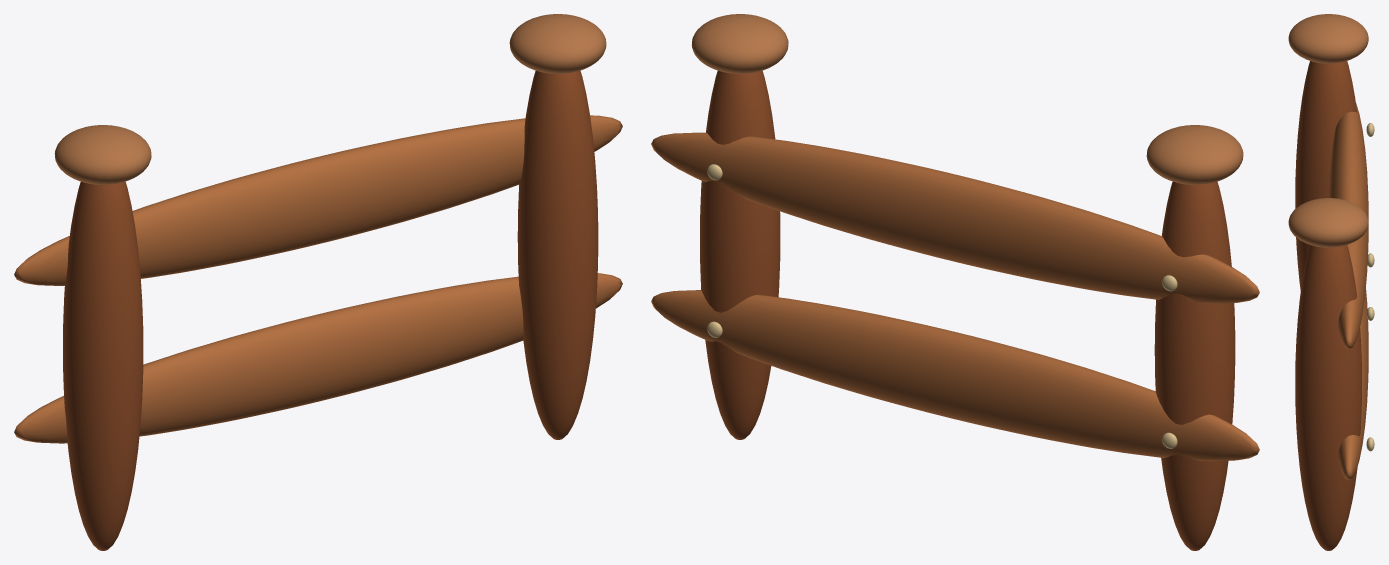
Rendered from fence.glb.
3 renders of one model, left to right at view 1: azimuth 30°, elevation 25°; view 2: azimuth 150°, elevation 25°; view 3: azimuth 270°, elevation 25°, orthographic. The views are drawn at different scales.
Visible parts, largest first — view 1: rail (×2), post (×2), cap (×2); view 2: rail (×2), post (×2), cap (×2); view 3: post (×2), rail (×2), cap (×2).
Boxes of the visible parts, <box> form: rail (×2): <box>14,115,622,443</box>; post (×2): <box>63,70,598,550</box>; cap (×2): <box>54,14,606,184</box>; rail (×2): <box>651,132,1259,461</box>; post (×2): <box>700,70,1235,550</box>; cap (×2): <box>691,14,1243,184</box>; post (×2): <box>1295,61,1361,550</box>; rail (×2): <box>1329,103,1368,480</box>; cap (×2): <box>1288,14,1368,247</box>.
Size of the model in its own units: 1.68 by 1.1 by 0.248.
